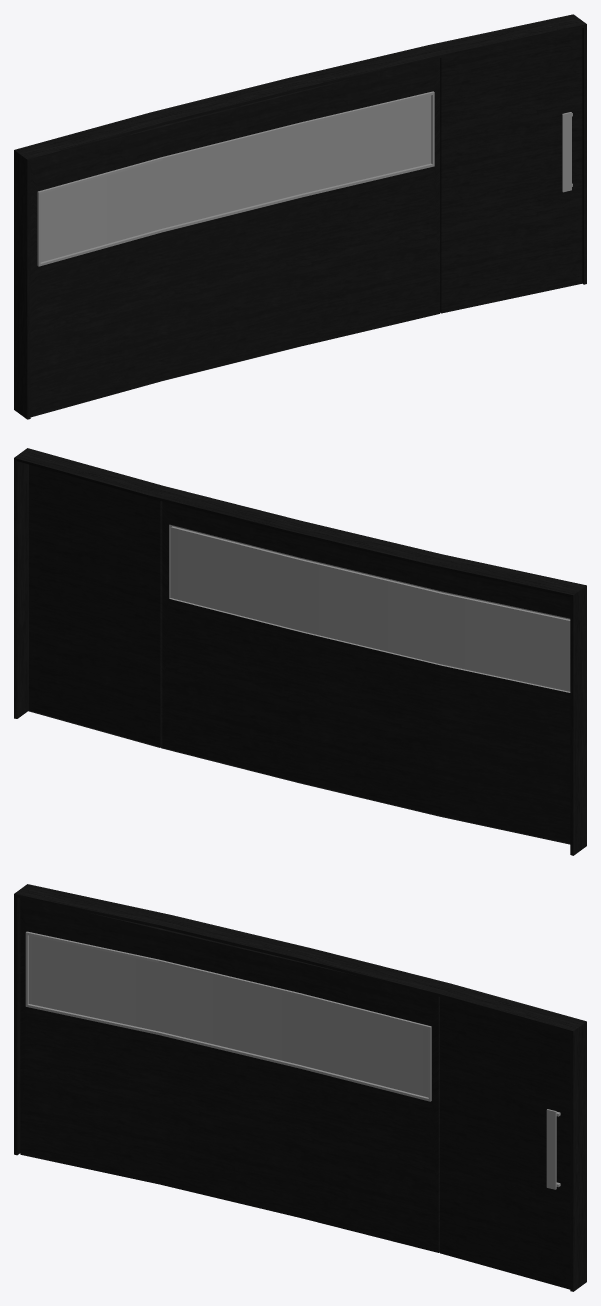
File: ULT_Door_Exit_Mid.FBX
3 views of the same model, one above another, from view 1: azimuth 30°, elevation 25°; view 2: azimuth 150°, elevation 25°; view 3: azimuth 330°, elevation 25° (orthographic).
Parts seen in each view (by area): view 1: ULT_Door_Exit_Mid; view 2: ULT_Door_Exit_Mid; view 3: ULT_Door_Exit_Mid.
Part boxes in pixels (left/top/right/bottom): ULT_Door_Exit_Mid: left=14, top=14, right=586, bottom=419; ULT_Door_Exit_Mid: left=14, top=448, right=586, bottom=855; ULT_Door_Exit_Mid: left=14, top=884, right=586, bottom=1291.
Bounding box in the file's own units: 8070 × 3587 × 524.
